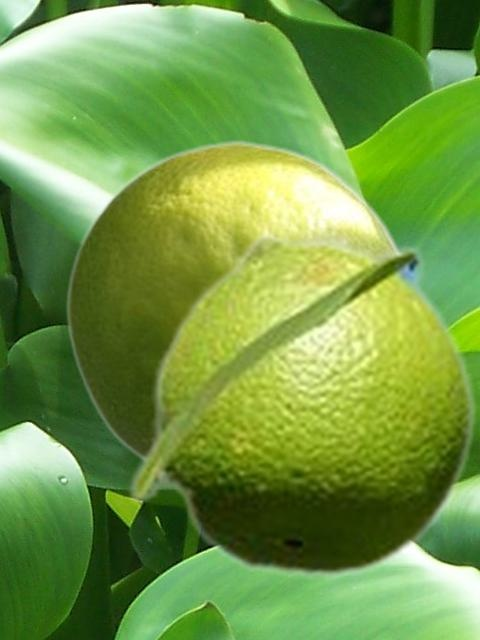dalandan: (125, 231, 478, 580), (65, 139, 398, 458)
